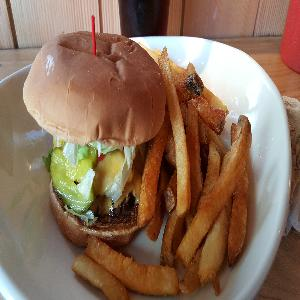cheeseburger_475cal: (20, 27, 178, 261)
fries_350cal: (159, 48, 252, 297)
